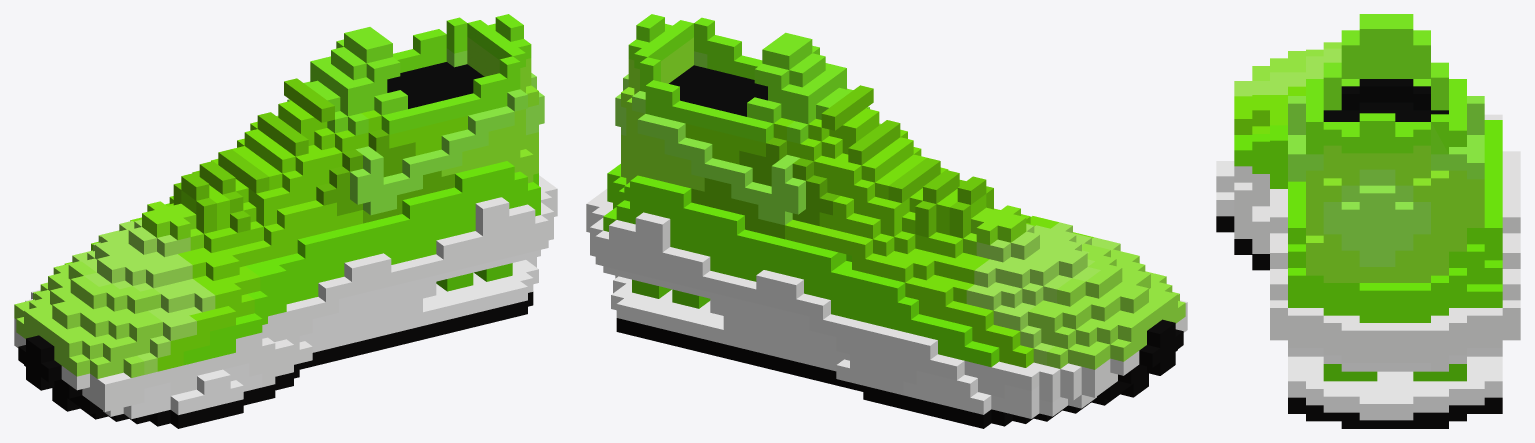
The model's file is Ten Green.fbx.
3 renders of one model, left to right at view 1: azimuth 30°, elevation 25°; view 2: azimuth 150°, elevation 25°; view 3: azimuth 270°, elevation 25°, orthographic. The views are drawn at different scales.
Parts seen in each view (by area): view 1: Untitled; view 2: Untitled; view 3: Untitled.
Boxes of the visible parts, <box> form: Untitled: <box>14,14,557,428</box>; Untitled: <box>586,14,1187,428</box>; Untitled: <box>1216,14,1520,428</box>.
Bounding box in the file's own units: 400 × 200 × 170.
